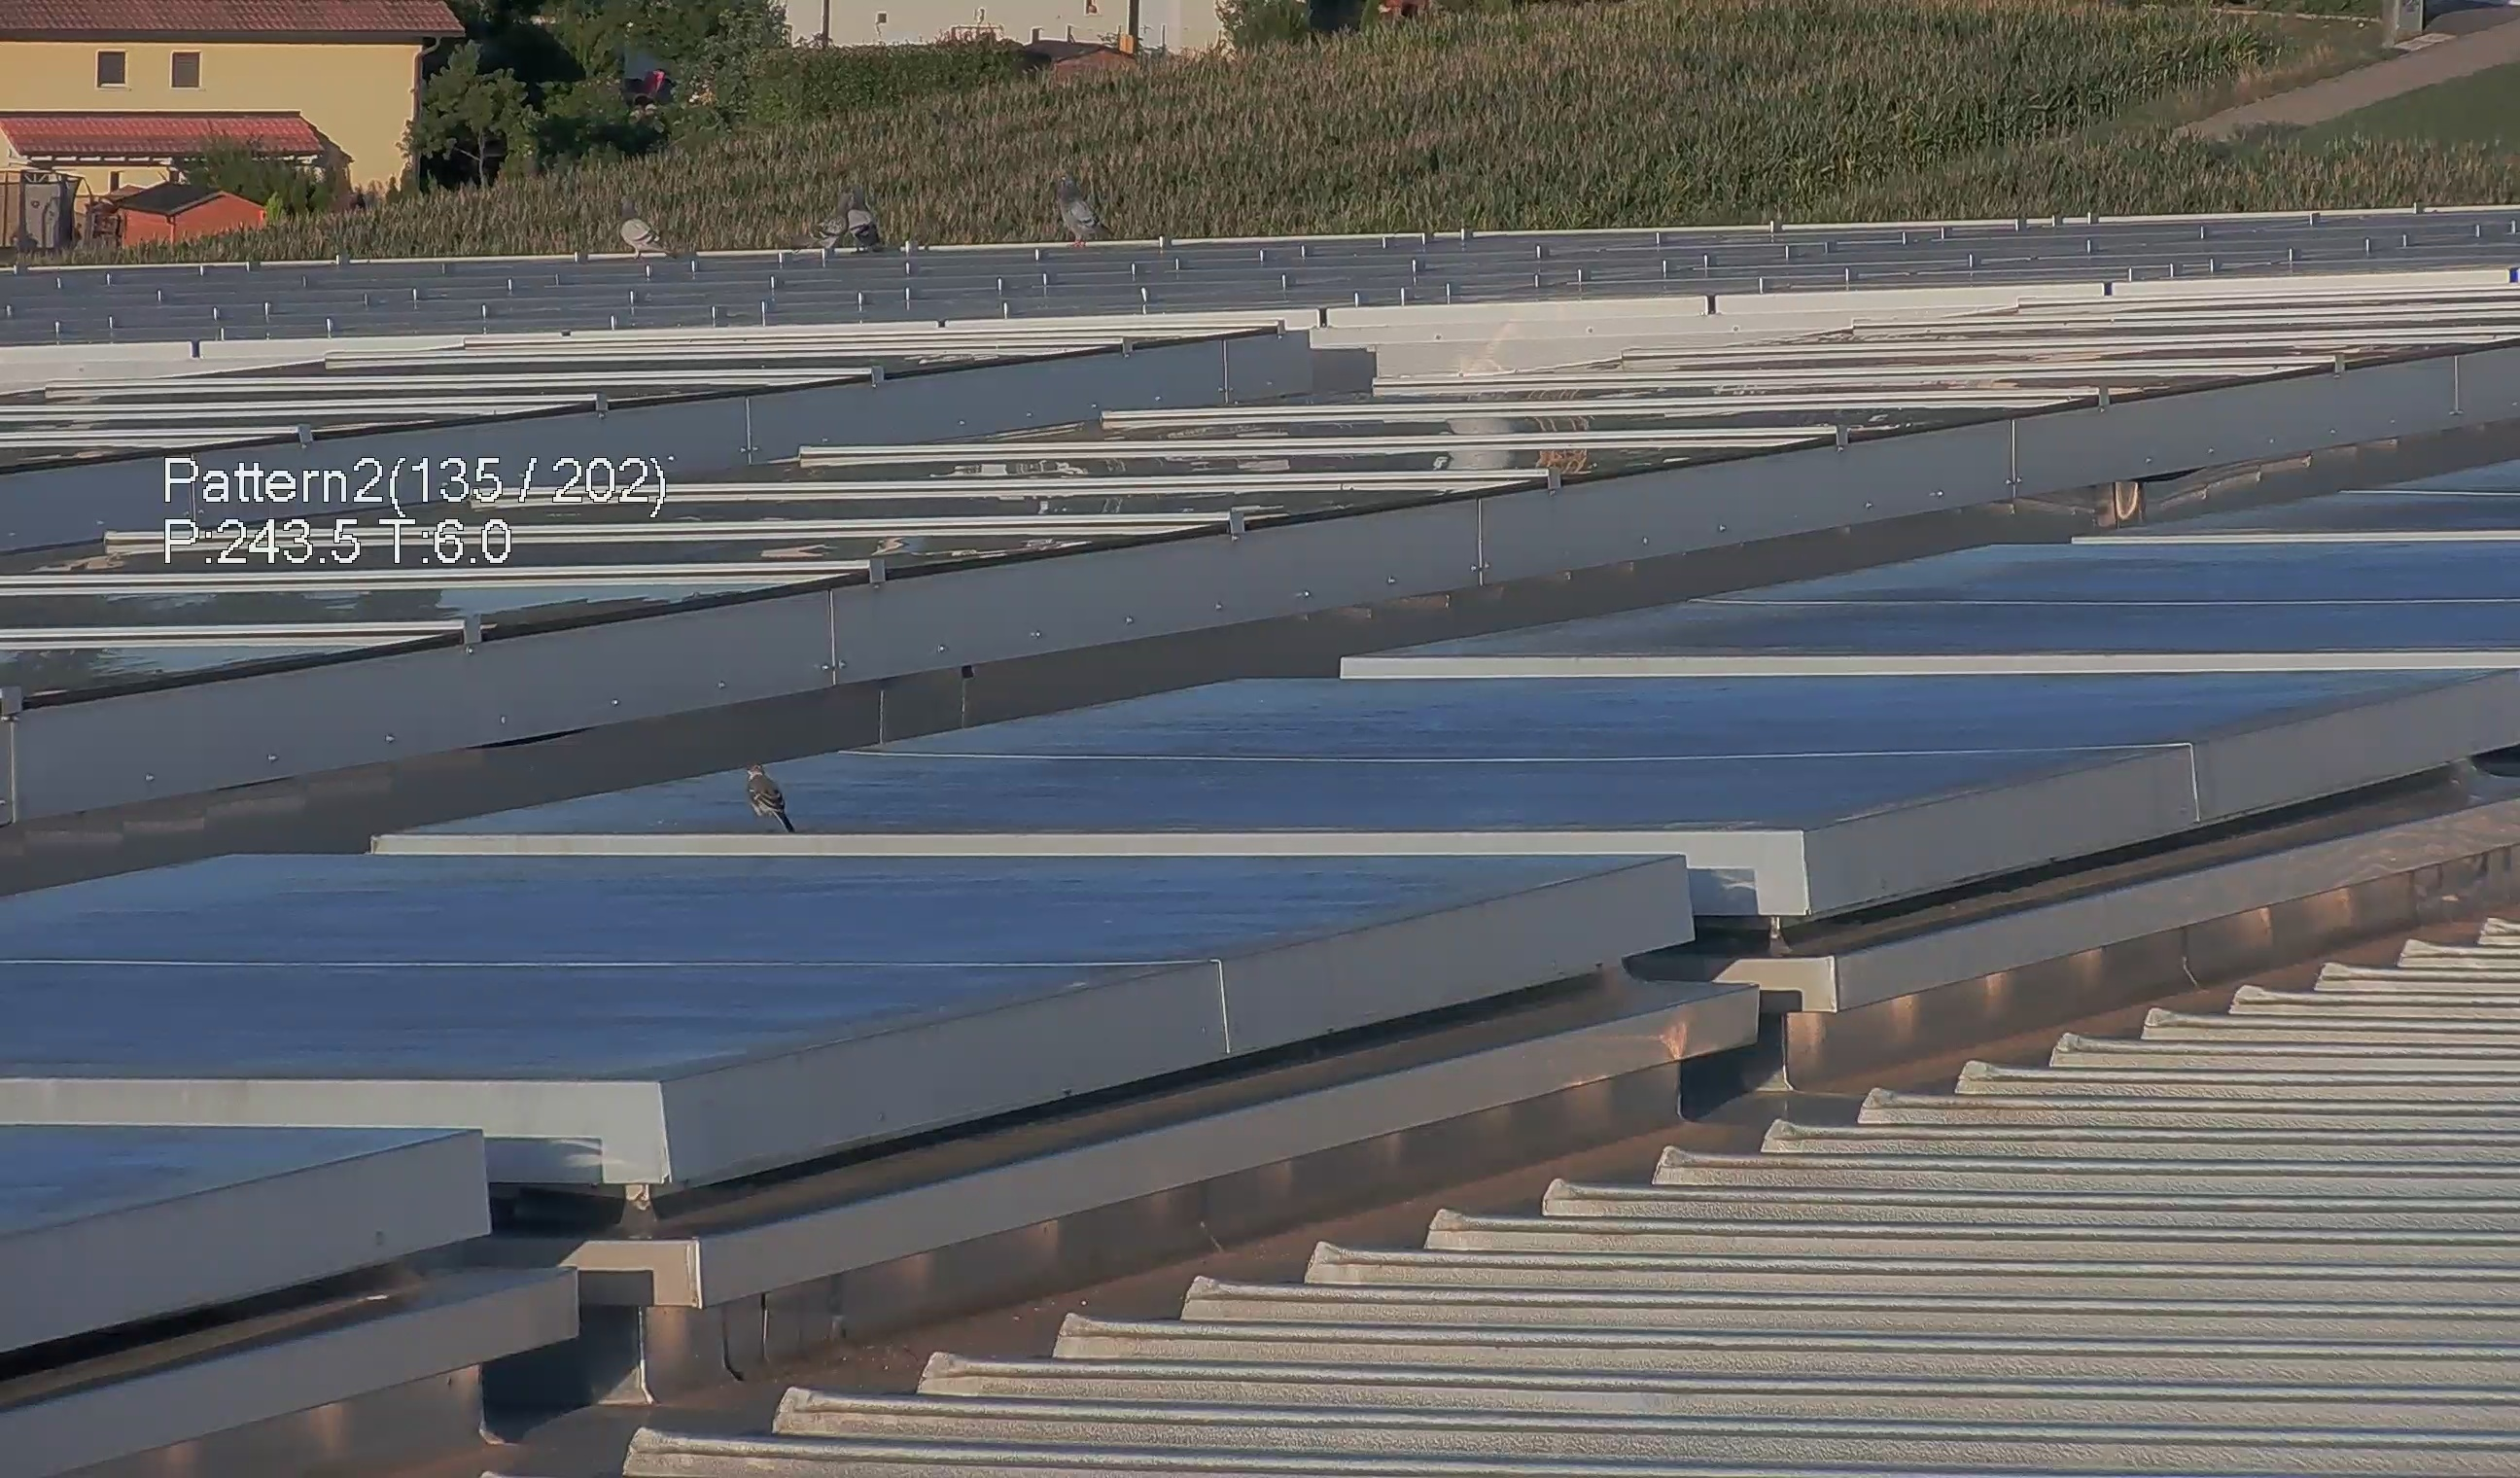Pigeon: (614, 183, 674, 262), (728, 753, 786, 834), (1062, 165, 1113, 252), (790, 192, 856, 253), (846, 188, 886, 250)
